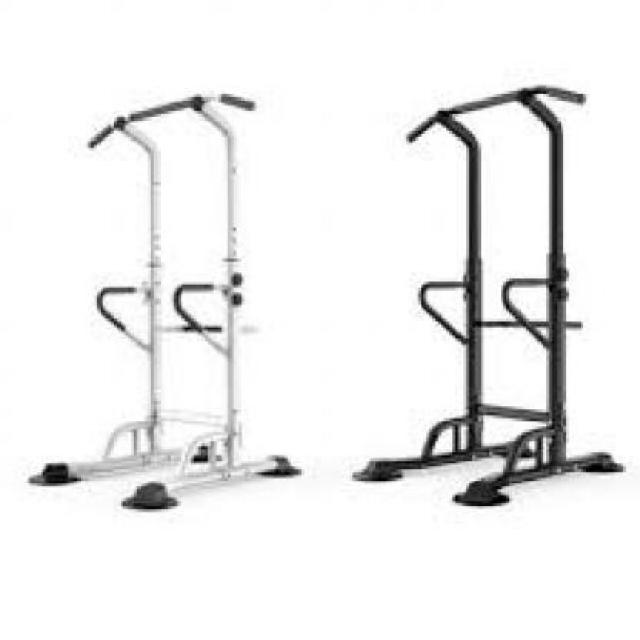chinning dipping: (29, 92, 303, 511), (356, 83, 626, 508)
